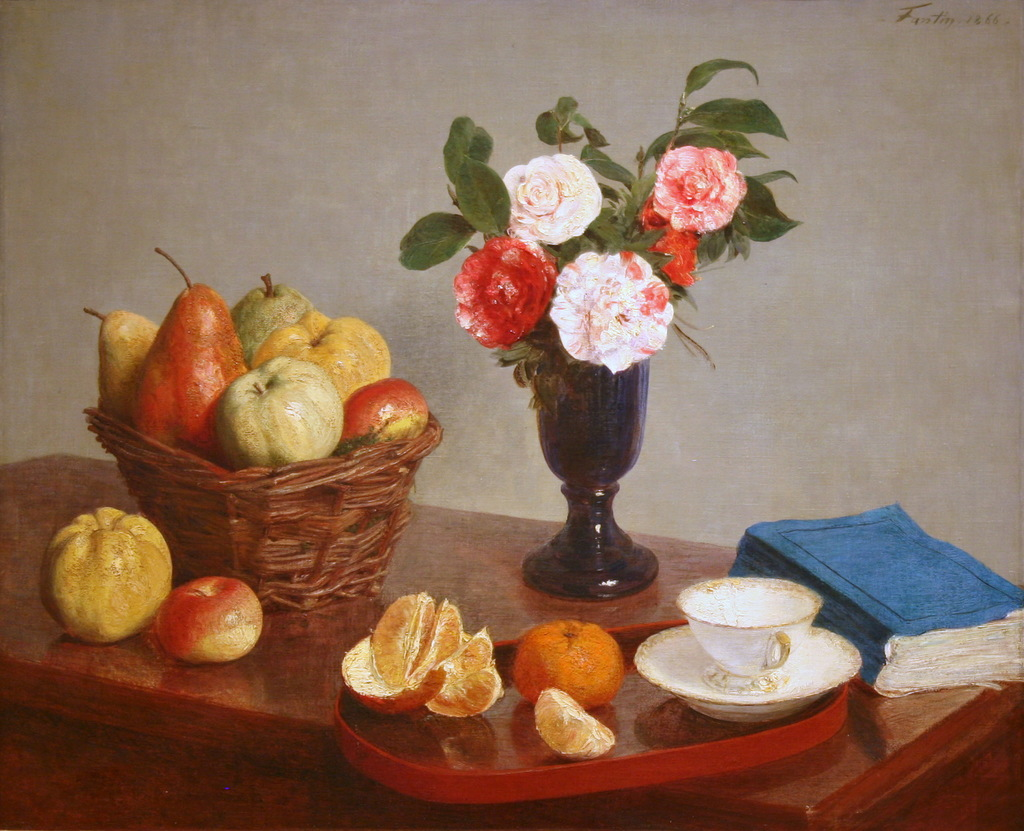Apple: (145, 578, 256, 665), (343, 379, 428, 440)
